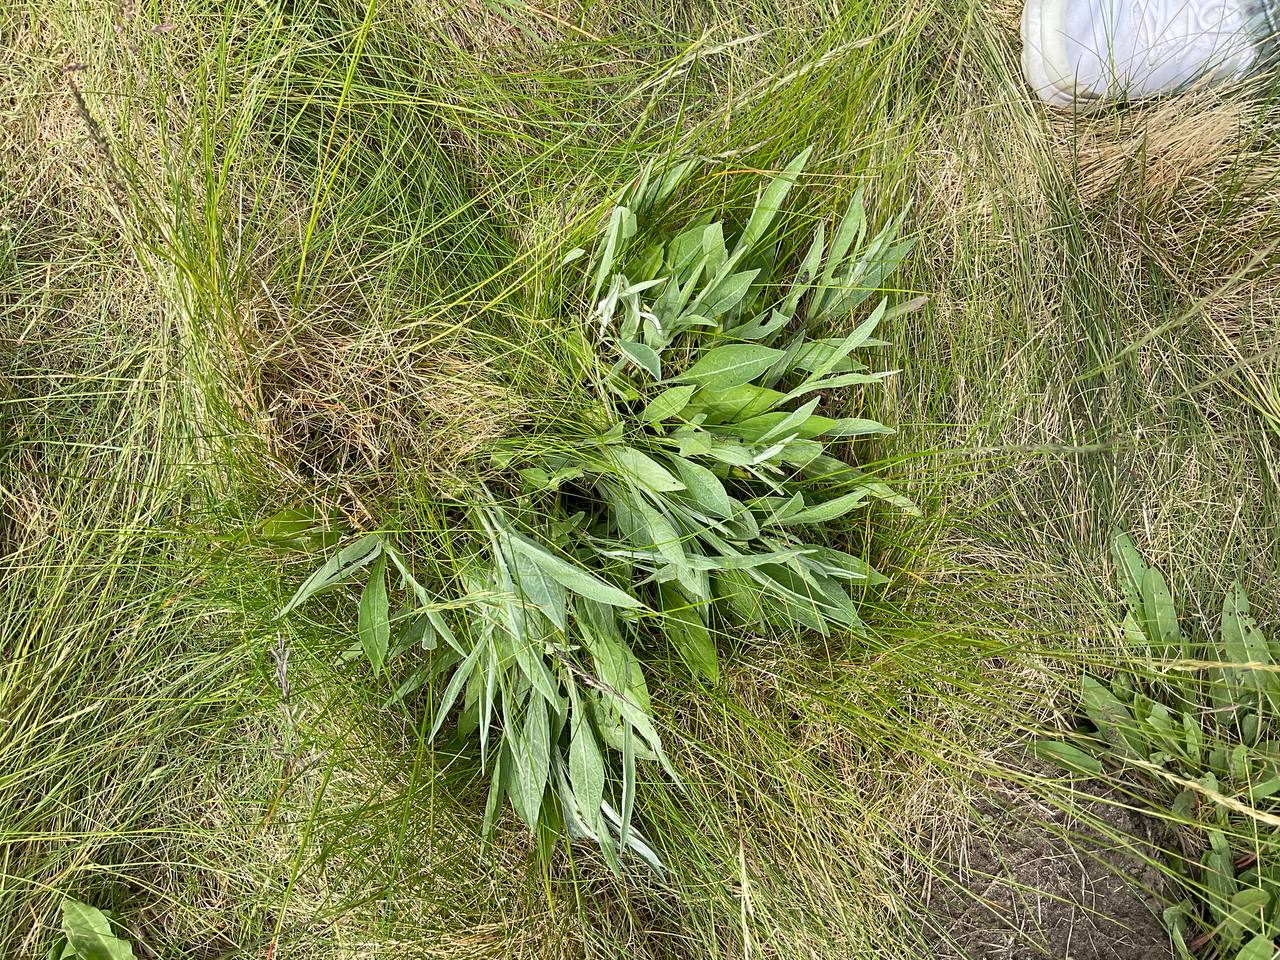centaurea-jacea: (256, 132, 941, 883)
